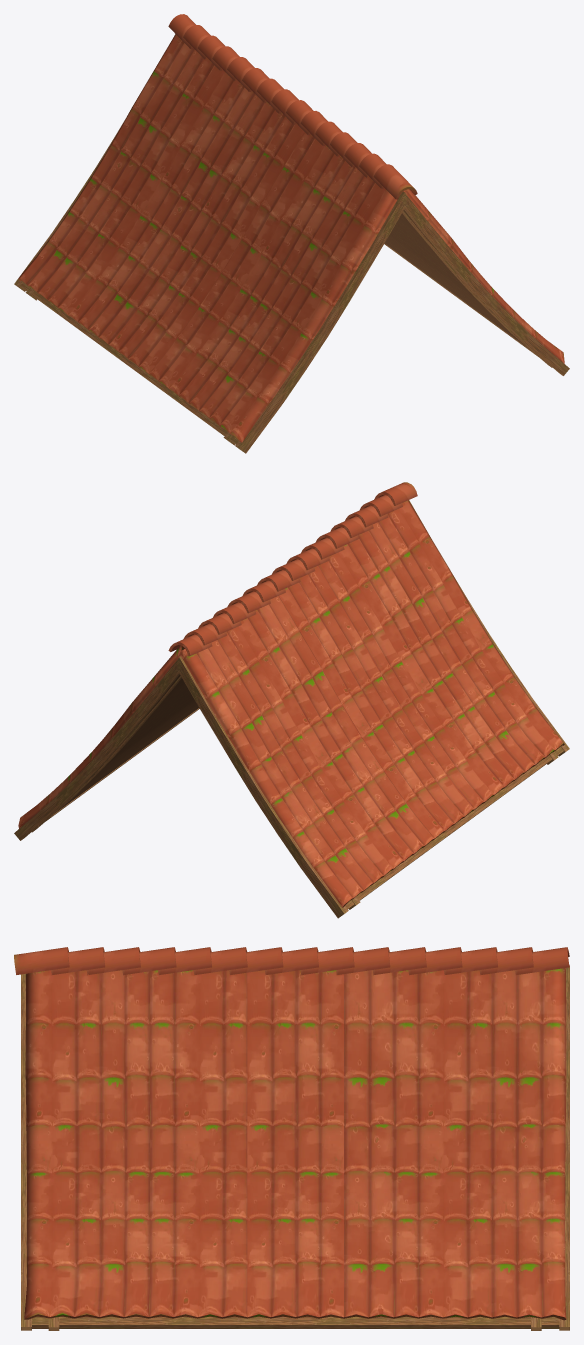
The model's file is roof_roundtiles_8x10.glb.
3 views of the same model, one above another, from view 1: azimuth 30°, elevation 25°; view 2: azimuth 150°, elevation 25°; view 3: azimuth 270°, elevation 25° (orthographic). The views are drawn at different scales.
Bounding box in the file's own units: 9.95 × 6.78 × 11.86.
2 materials, 2 textured.
